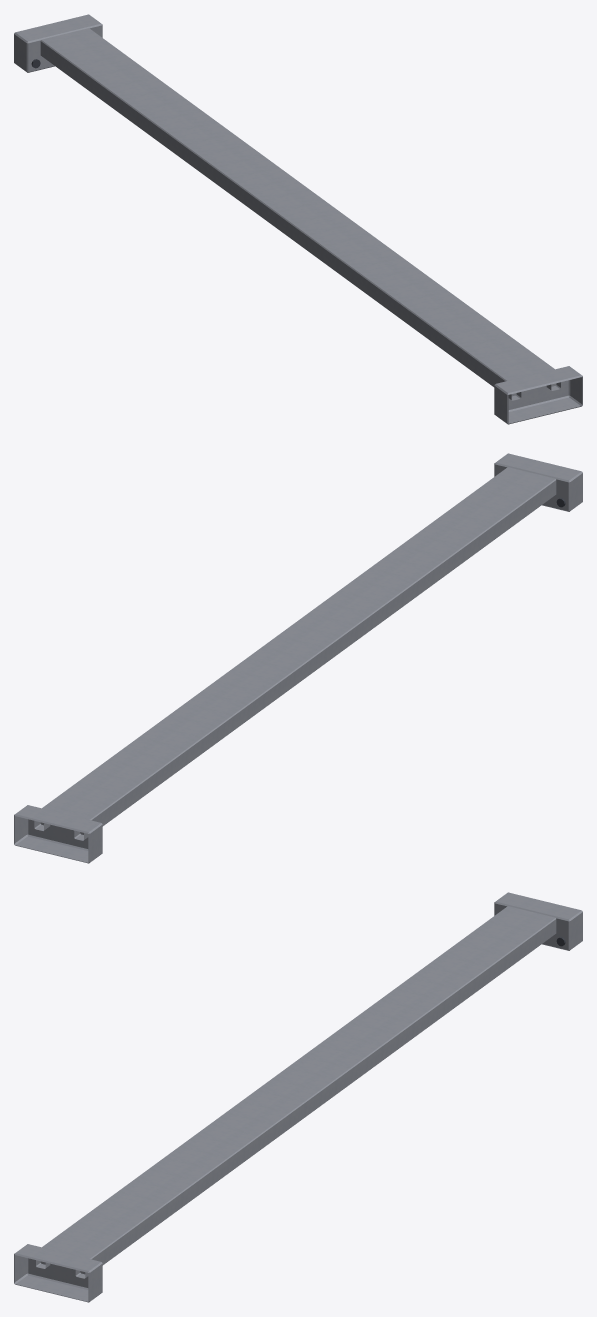
Rendered from ClawA.fbx.
3 views of the same model, one above another, from view 1: azimuth 30°, elevation 25°; view 2: azimuth 150°, elevation 25°; view 3: azimuth 330°, elevation 25° (orthographic).
Parts seen in each view (by area): view 1: SM_VA_ClawA.mo; view 2: SM_VA_ClawA.mo; view 3: SM_VA_ClawA.mo.
Part boxes in pixels (bbox=[...]): SM_VA_ClawA.mo: bbox=[14, 14, 582, 424]; SM_VA_ClawA.mo: bbox=[14, 453, 582, 863]; SM_VA_ClawA.mo: bbox=[14, 892, 582, 1302].
Bounding box in the file's own units: 5.72 × 2.26 × 64.27.
